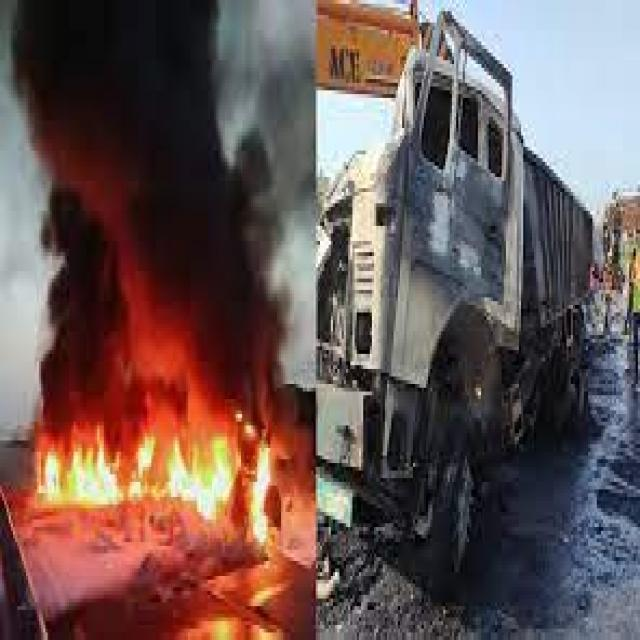fire: (30, 433, 275, 553)
smoke: (2, 4, 309, 444)
